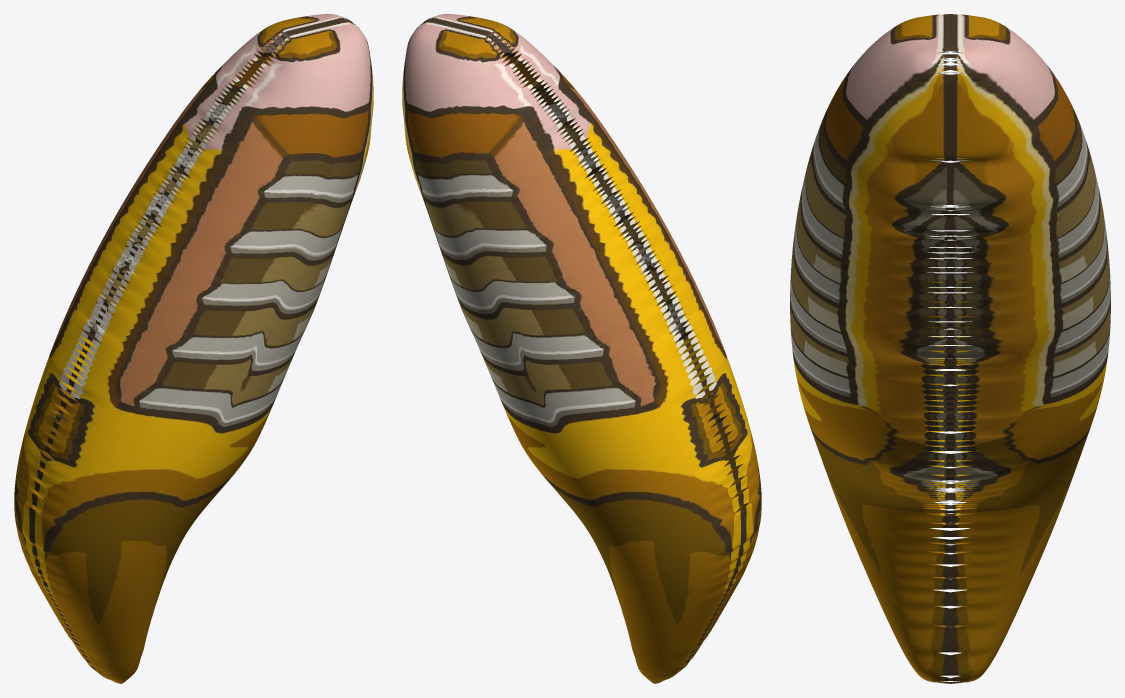
The model's file is side_access_stair.glb.
3 renders of one model, left to right at view 1: azimuth 30°, elevation 25°; view 2: azimuth 150°, elevation 25°; view 3: azimuth 270°, elevation 25°, orthographic. The views are drawn at different scales.
Visible parts, largest first — view 1: side_access_stair; view 2: side_access_stair; view 3: side_access_stair.
Part boxes in pixels (bbox=[...]): side_access_stair: bbox=[14, 14, 373, 683]; side_access_stair: bbox=[402, 14, 761, 683]; side_access_stair: bbox=[790, 14, 1110, 683].
Bounding box in the file's own units: 0.9808 × 1.73 × 0.6462.
1 material, 1 textured.
